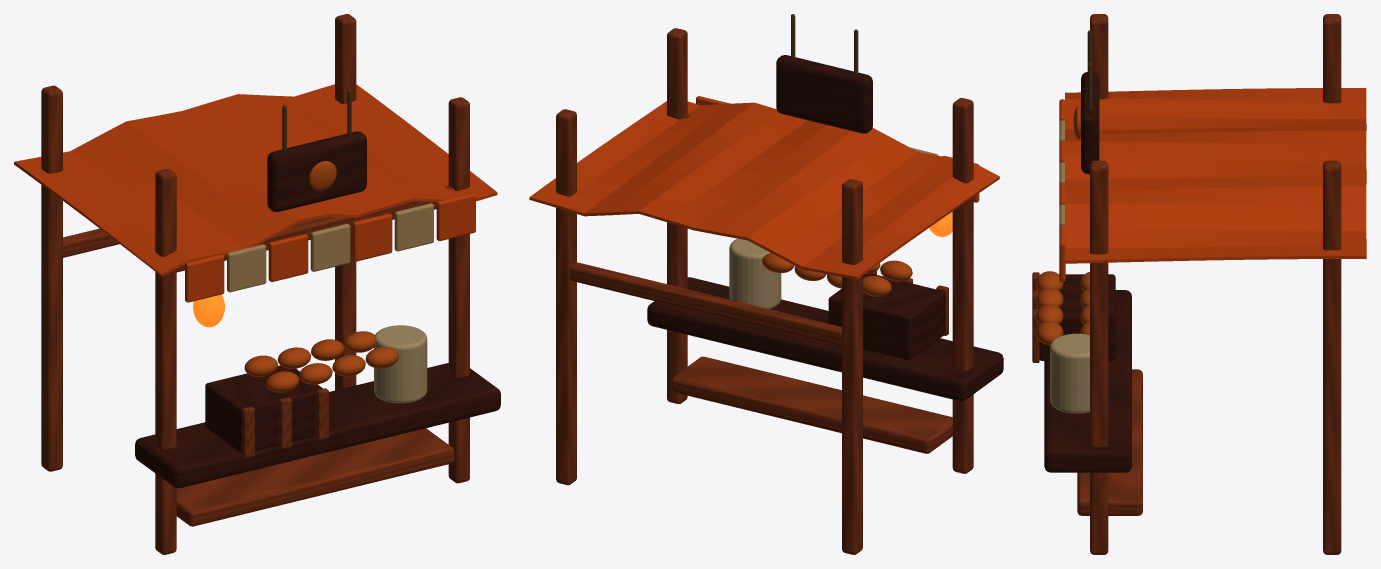
Rendered from market-stall.glb.
3 views of the same model, side by side, from view 1: azimuth 30°, elevation 25°; view 2: azimuth 150°, elevation 25°; view 3: azimuth 270°, elevation 25° (orthographic). The views are drawn at different scales.
Visible parts, largest first — view 1: V01_Bakery_Canopy_BAKED_EXPORT, V01_Bakery_Counter_EXPORT, V01_Bakery_Lower_Shelf_EXPORT, V01_Bakery_Post_L_B_EXPORT, V01_Bakery_Post_L_F_EXPORT, V01_Bakery_Post_R_F_EXPORT, V01_Bakery_Bread_Crate_Body_EXPORT, V01_Bakery_Sign_Board_EXPORT, V01_Bakery_Post_R_B_EXPORT, V01_Bakery_Flour_Jar_EXPORT, V01_Bakery_Valance_05_EXPORT, V01_Bakery_Valance_03_EXPORT (+12 smaller); view 2: V01_Bakery_Canopy_BAKED_EXPORT, V01_Bakery_Counter_EXPORT, V01_Bakery_Lower_Shelf_EXPORT, V01_Bakery_Post_L_B_EXPORT, V01_Bakery_Post_R_B_EXPORT, V01_Bakery_Post_L_F_EXPORT, V01_Bakery_Sign_Board_EXPORT, V01_Bakery_Bread_Crate_Body_EXPORT, V01_Bakery_Back_Rail_EXPORT, V01_Bakery_Post_R_F_EXPORT, V01_Bakery_Flour_Jar_EXPORT; view 3: V01_Bakery_Canopy_BAKED_EXPORT, V01_Bakery_Counter_EXPORT, V01_Bakery_Post_R_B_EXPORT, V01_Bakery_Post_R_F_EXPORT, V01_Bakery_Lower_Shelf_EXPORT, V01_Bakery_Flour_Jar_EXPORT, V01_Bakery_Bread_Crate_Body_EXPORT, V01_Bakery_Post_L_B_EXPORT, V01_Bakery_Sign_Board_EXPORT, V01_Bakery_Post_L_F_EXPORT, V01_Bakery_Loaf_04_EXPORT, V01_Bakery_Loaf_03_EXPORT (+2 smaller).
Part boxes in pixels (box(x1,y1,x2,y2)): V01_Bakery_Canopy_BAKED_EXPORT: box(14, 84, 497, 276); V01_Bakery_Counter_EXPORT: box(135, 363, 500, 488); V01_Bakery_Lower_Shelf_EXPORT: box(176, 428, 454, 526); V01_Bakery_Post_L_B_EXPORT: box(41, 85, 62, 471); V01_Bakery_Post_L_F_EXPORT: box(155, 169, 176, 554); V01_Bakery_Post_R_F_EXPORT: box(448, 97, 469, 483); V01_Bakery_Bread_Crate_Body_EXPORT: box(205, 365, 322, 453); V01_Bakery_Sign_Board_EXPORT: box(267, 131, 366, 211); V01_Bakery_Post_R_B_EXPORT: box(335, 14, 356, 390); V01_Bakery_Flour_Jar_EXPORT: box(374, 325, 427, 403); V01_Bakery_Valance_05_EXPORT: box(352, 213, 392, 261); V01_Bakery_Valance_03_EXPORT: box(268, 234, 308, 281); V01_Bakery_Canopy_BAKED_EXPORT: box(529, 101, 999, 279); V01_Bakery_Counter_EXPORT: box(647, 277, 1003, 401); V01_Bakery_Lower_Shelf_EXPORT: box(671, 356, 952, 453); V01_Bakery_Post_L_B_EXPORT: box(842, 179, 862, 554); V01_Bakery_Post_R_B_EXPORT: box(556, 109, 576, 485); V01_Bakery_Post_L_F_EXPORT: box(952, 98, 973, 473); V01_Bakery_Sign_Board_EXPORT: box(776, 55, 872, 133); V01_Bakery_Bread_Crate_Body_EXPORT: box(828, 273, 945, 359); V01_Bakery_Back_Rail_EXPORT: box(570, 262, 841, 346); V01_Bakery_Post_R_F_EXPORT: box(667, 28, 687, 403); V01_Bakery_Flour_Jar_EXPORT: box(729, 238, 781, 308); V01_Bakery_Canopy_BAKED_EXPORT: box(1065, 88, 1366, 263); V01_Bakery_Counter_EXPORT: box(1044, 290, 1131, 472); V01_Bakery_Post_R_B_EXPORT: box(1323, 160, 1341, 554); V01_Bakery_Post_R_F_EXPORT: box(1090, 160, 1108, 554); V01_Bakery_Lower_Shelf_EXPORT: box(1077, 369, 1142, 515); V01_Bakery_Flour_Jar_EXPORT: box(1050, 333, 1089, 413); V01_Bakery_Bread_Crate_Body_EXPORT: box(1039, 274, 1115, 360); V01_Bakery_Post_L_B_EXPORT: box(1323, 14, 1341, 103); V01_Bakery_Sign_Board_EXPORT: box(1081, 72, 1099, 174); V01_Bakery_Post_L_F_EXPORT: box(1090, 14, 1108, 99); V01_Bakery_Loaf_04_EXPORT: box(1036, 321, 1063, 344); V01_Bakery_Loaf_03_EXPORT: box(1036, 304, 1063, 324).
Size of the model in its own units: 4.36 by 5.22 by 3.66.
9 materials, 9 textured.
